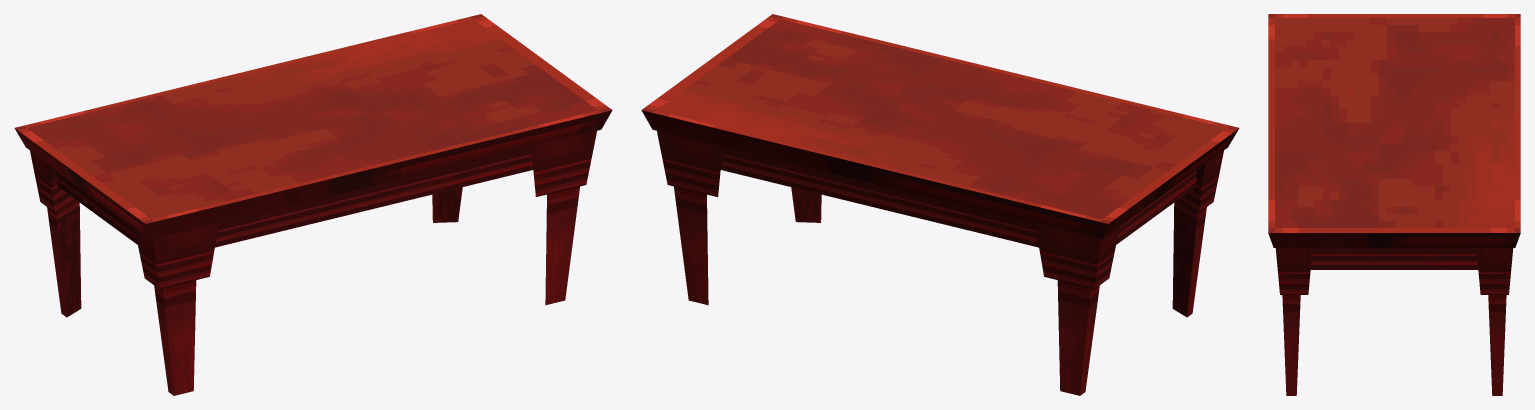
The picture shows the model from 3 angles, left to right: view 1: azimuth 30°, elevation 25°; view 2: azimuth 150°, elevation 25°; view 3: azimuth 270°, elevation 25°; orthographic projection. The views are drawn at different scales.
Parts seen in each view (by area): view 1: 3045IMRL02_06; view 2: 3045IMRL02_06; view 3: 3045IMRL02_06.
Boxes of the visible parts, x1=… form: 3045IMRL02_06: x1=14, y1=14, x2=612, y2=395; 3045IMRL02_06: x1=641, y1=14, x2=1239, y2=395; 3045IMRL02_06: x1=1268, y1=14, x2=1520, y2=395.
Bounding box in the file's own units: 1.95 × 0.7502 × 0.9502.
3 materials, 3 textured.
